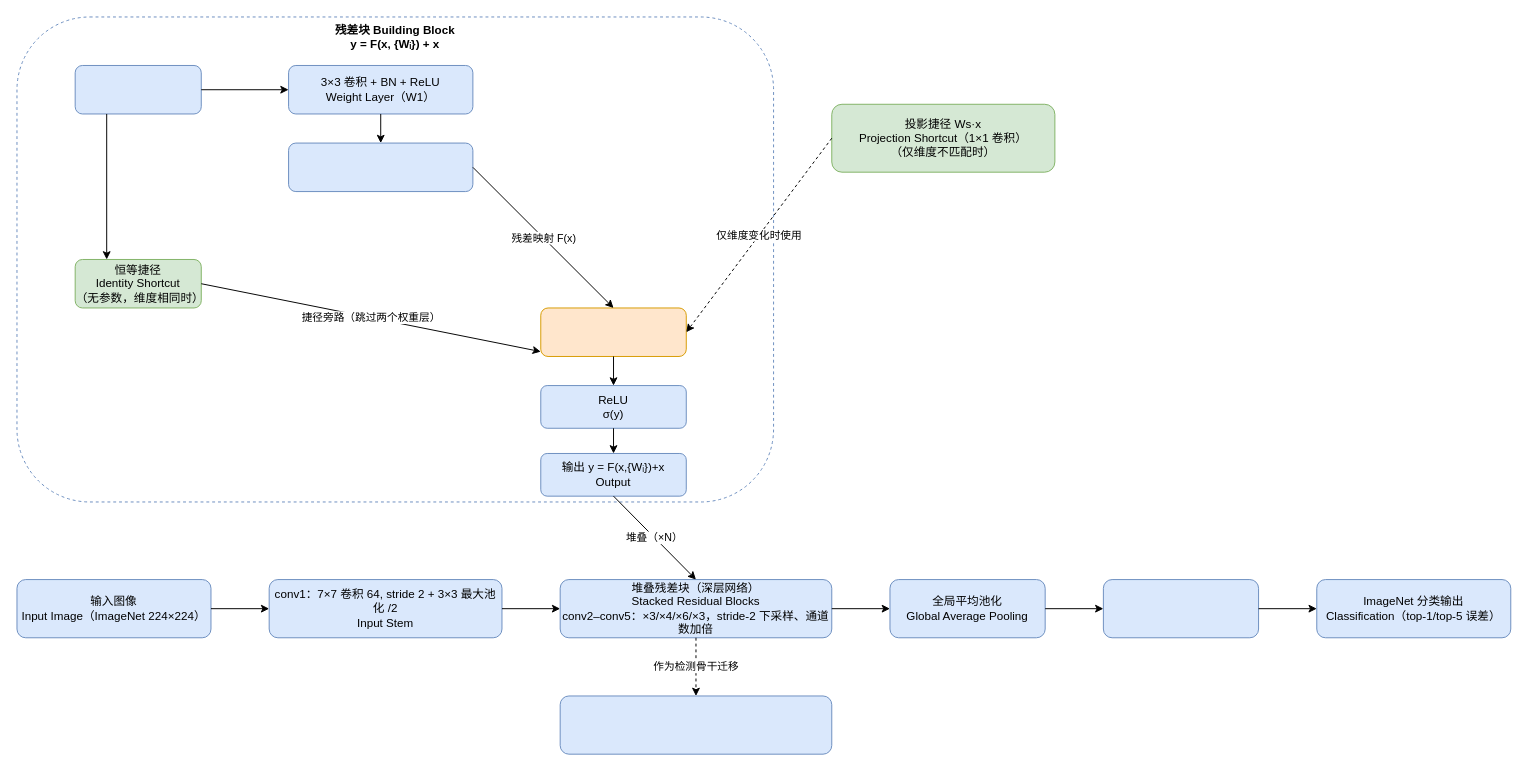
The diagram is 1528 pixels wide and 771 high, and some of its shapes have lost their labels. The shapes that lost their labels are listed below. From the top down, each one's centre as x and y in pixels, then its label:
At (137,89): "输入 x Input x".
At (380,167): "3×3 卷积 + BN Weight Layer（W2）".
At (613,331): "逐元素相加 Element-wise Addition F(x) + x".
At (1180,608): "全连接 + Softmax FC 1000-d + Softmax".
At (695,724): "COCO 目标检测 Detection（Faster R-CNN，ResNet-101 作骨干：mAP 21.2%→27.2%）".
